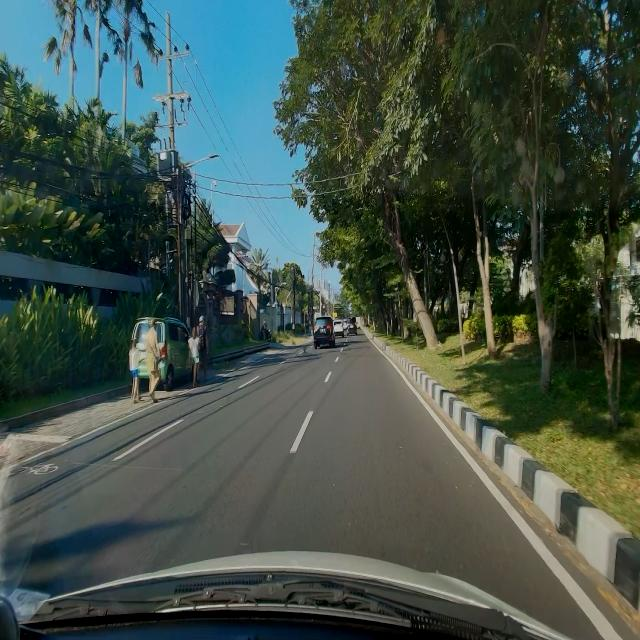car: (313, 315, 335, 350)
